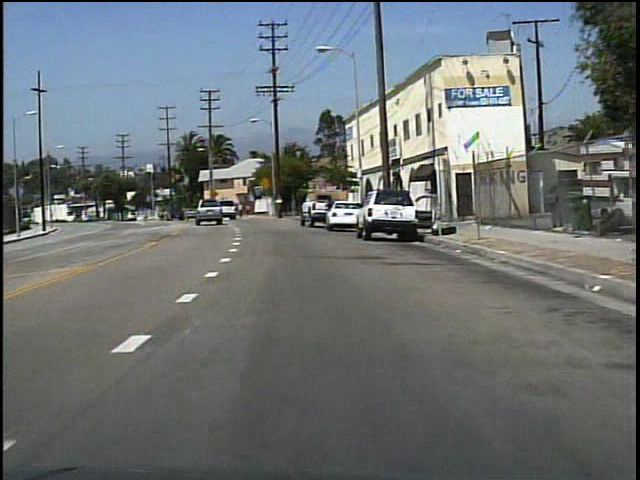person: (244, 202, 254, 220), (238, 199, 246, 220)
